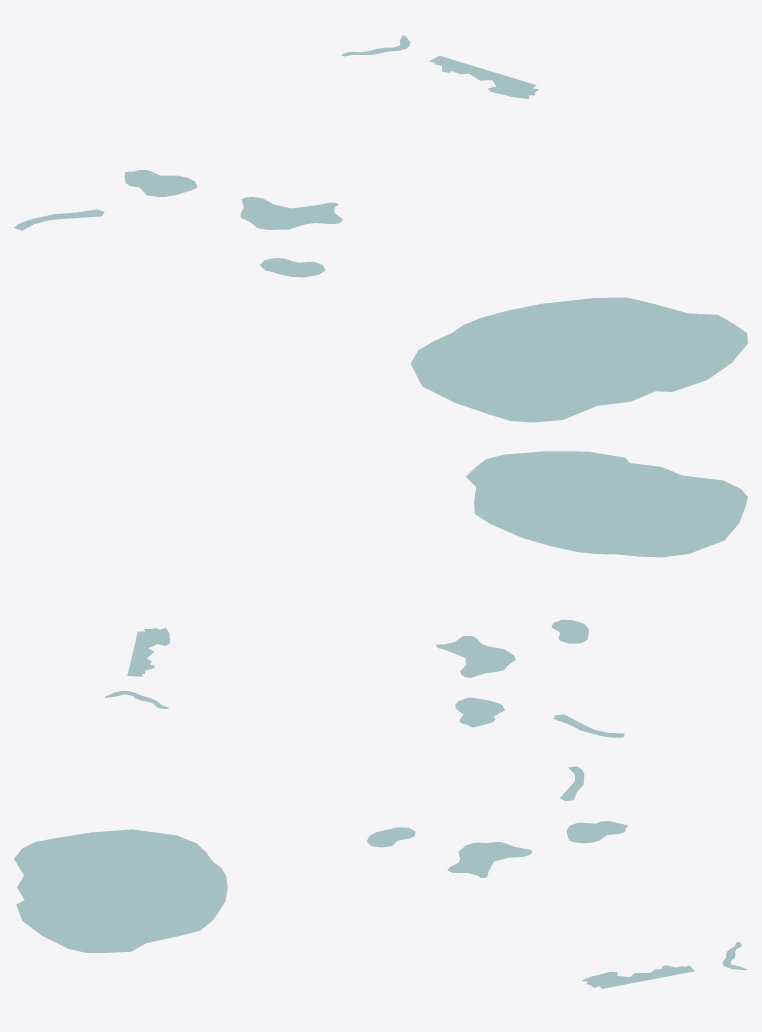
Rendered from shui.glb.
3 views of the same model, one above another, from view 1: azimuth 30°, elevation 25°; view 2: azimuth 150°, elevation 25°; view 3: azimuth 270°, elevation 25° (orthographic). The views are drawn at different scales.
Parts seen in each view (by area): view 1: shui; view 2: shui; view 3: shui.
Boxes of the visible parts, x1,y1,x2,y2 form: shui: (14, 35, 747, 422); shui: (105, 451, 747, 737); shui: (14, 766, 747, 988).
Size of the model in its own units: 107 by 0.6061 by 131.
